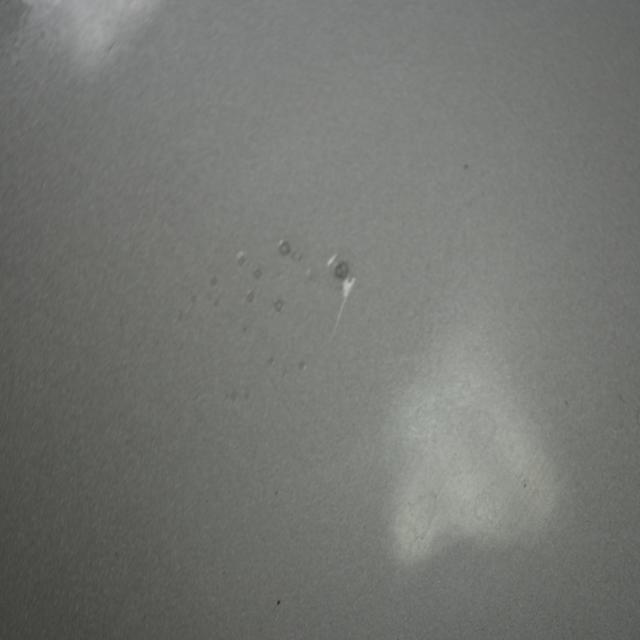dirt: (273, 588, 283, 616), (460, 152, 471, 177), (521, 477, 528, 497)
runs: (181, 236, 356, 408)
water marks: (441, 392, 507, 468), (395, 481, 446, 550), (458, 472, 503, 537)
